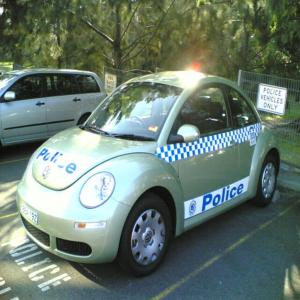Vehicle-registration-plate: (20, 209, 39, 222)
